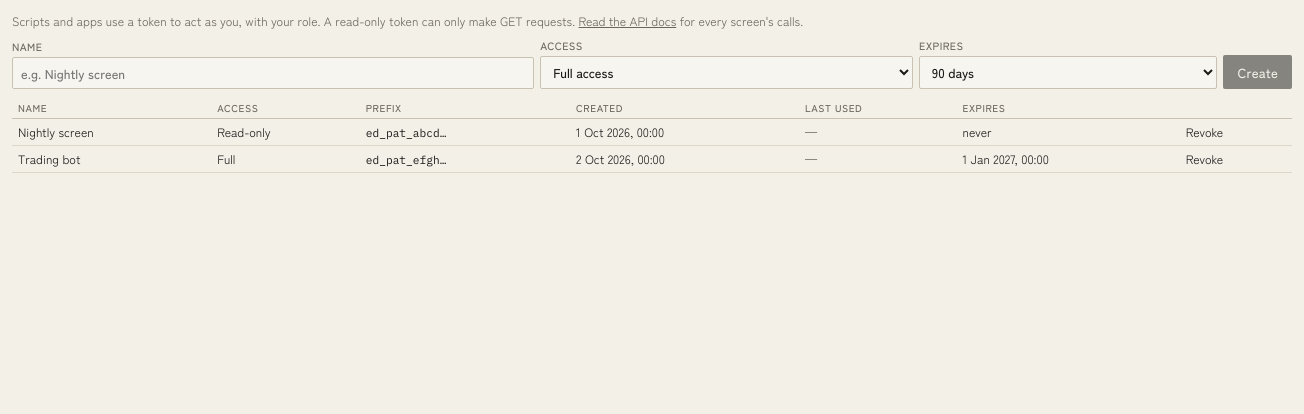
Scenario: TokensSection › creates a full-access token that never expires by choice
Expected: the text "Nightly screen" is shown, left=12, top=118, right=211, bottom=146
Type "Bot" into the field labelled "Name" at (273, 73), box left=12, top=57, right=534, bottom=89
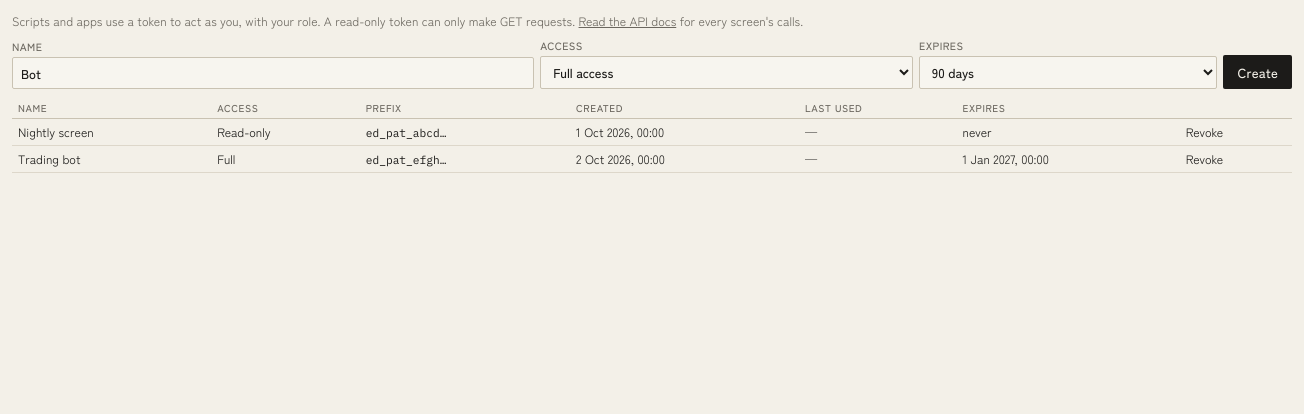
Select "Never" in the dropdown named "Token expiry" at (1068, 72), box left=919, top=56, right=1218, bottom=89
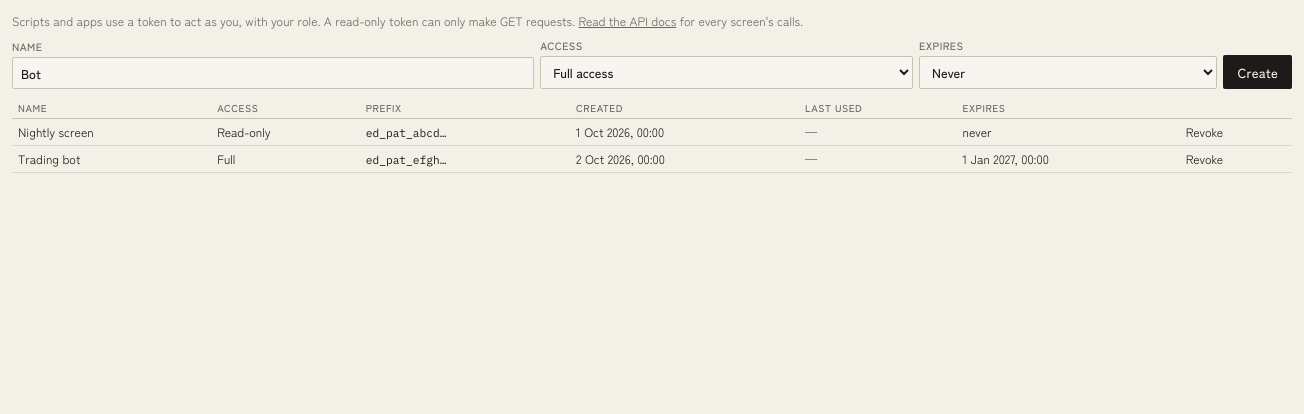
Click the button "Create" at (1258, 72), box left=1224, top=55, right=1292, bottom=89
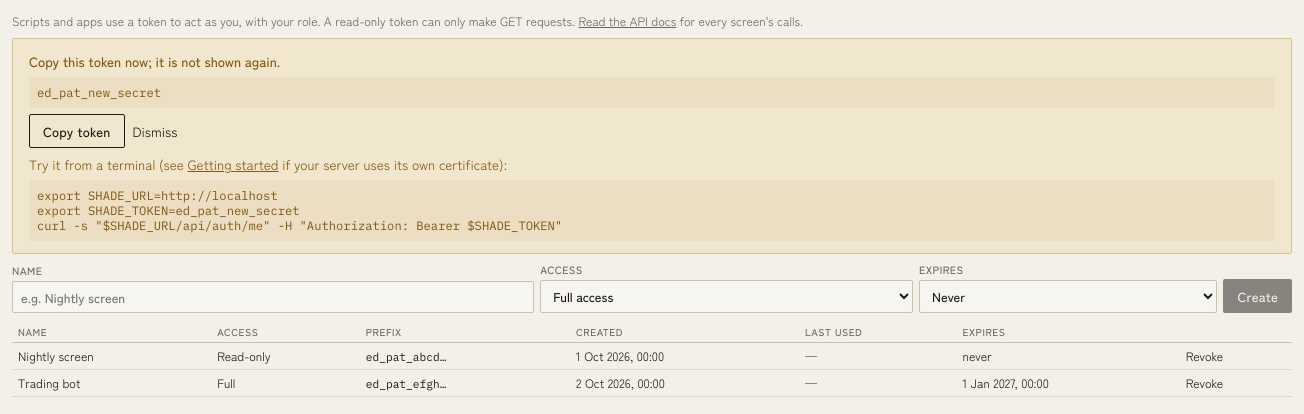
Now the text "ed_pat_new_secret" is shown, box left=29, top=77, right=1275, bottom=108
